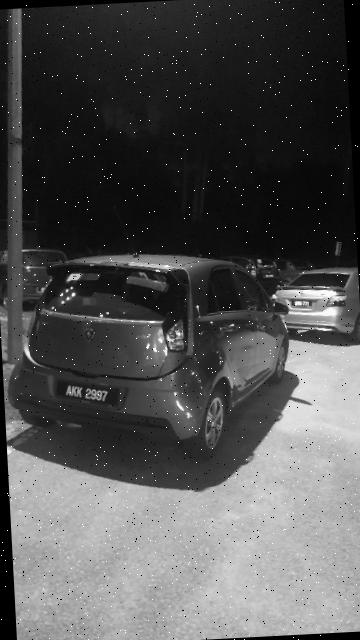License_Plate: (53, 377, 124, 414)
car: (3, 243, 300, 468), (266, 259, 360, 347)
